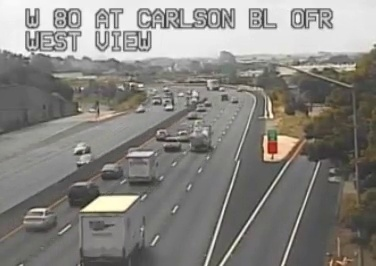car: (68, 182, 100, 206), (22, 207, 56, 228), (101, 163, 122, 179), (163, 136, 180, 151), (176, 130, 190, 142), (155, 129, 168, 140)
small-truck: (79, 194, 145, 266), (127, 150, 157, 182)
tank-truck: (191, 126, 210, 151)
